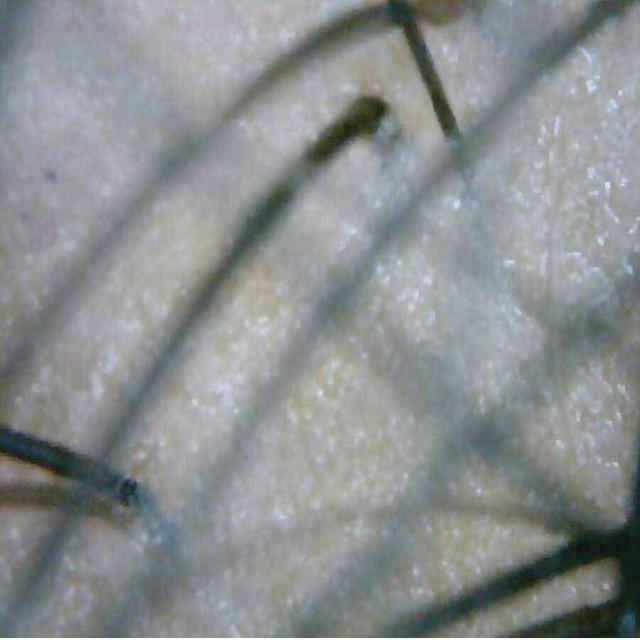o: (497, 22, 640, 524), (365, 235, 440, 347)
